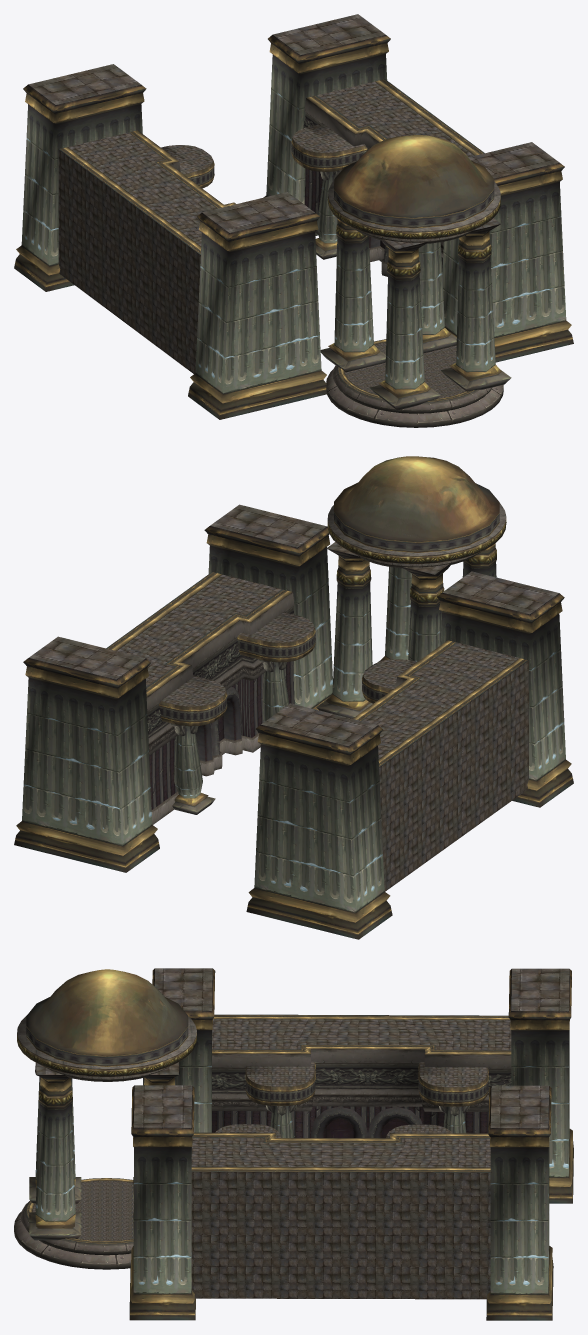
File: wg_titanbuilding08_set0.obj
The picture shows the model from 3 angles, top to bottom: view 1: azimuth 30°, elevation 25°; view 2: azimuth 150°, elevation 25°; view 3: azimuth 270°, elevation 25°; orthographic projection. The views are drawn at different scales.
Parts seen in each view (by area): view 1: ext2, ext0, ext1, ext7, ext9, ext3, ext11, ext5, ext4, ext12; view 2: ext2, ext0, ext1, ext7, ext5, ext12, ext11, ext13, ext3, ext10, ext4, ext6; view 3: ext0, ext2, ext1, ext7, ext5, ext13, ext9, ext12, ext10, ext11, ext3, ext4.
Boxes of the visible parts, x1,y1,x2,y2 form: ext2: [21, 54, 566, 393]; ext0: [28, 14, 559, 398]; ext1: [14, 34, 573, 419]; ext7: [334, 135, 494, 217]; ext9: [326, 228, 503, 427]; ext3: [316, 199, 511, 410]; ext11: [328, 195, 500, 279]; ext5: [169, 98, 443, 276]; ext4: [328, 181, 500, 231]; ext12: [304, 168, 442, 271]; ext2: [22, 545, 565, 912]; ext0: [29, 504, 558, 891]; ext1: [14, 512, 573, 939]; ext7: [334, 456, 499, 541]; ext5: [146, 592, 406, 824]; ext12: [149, 661, 294, 809]; ext11: [327, 517, 506, 606]; ext13: [147, 607, 294, 738]; ext3: [172, 548, 450, 814]; ext10: [203, 687, 241, 761]; ext4: [327, 503, 506, 555]; ext6: [195, 701, 234, 761]; ext0: [33, 968, 569, 1299]; ext2: [35, 1030, 569, 1294]; ext1: [26, 968, 573, 1320]; ext7: [26, 969, 188, 1055]; ext5: [212, 1049, 511, 1111]; ext13: [212, 1064, 511, 1094]; ext9: [14, 1066, 169, 1269]; ext12: [212, 1106, 488, 1137]; ext10: [311, 1106, 422, 1137]; ext11: [17, 1032, 196, 1108]; ext3: [29, 1062, 180, 1240]; ext4: [17, 1015, 196, 1068].
Size of the model in its own units: 86.21 by 60.27 by 119.
Materials: 14 (14 with a texture image).
